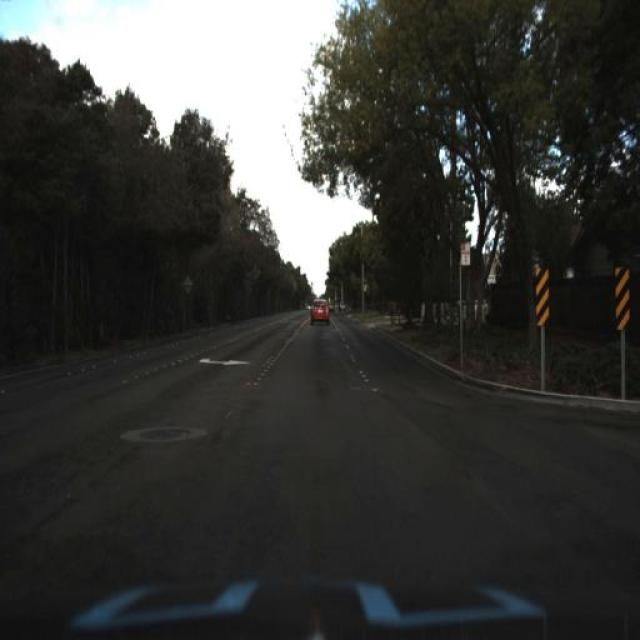car: (305, 288, 333, 333)
